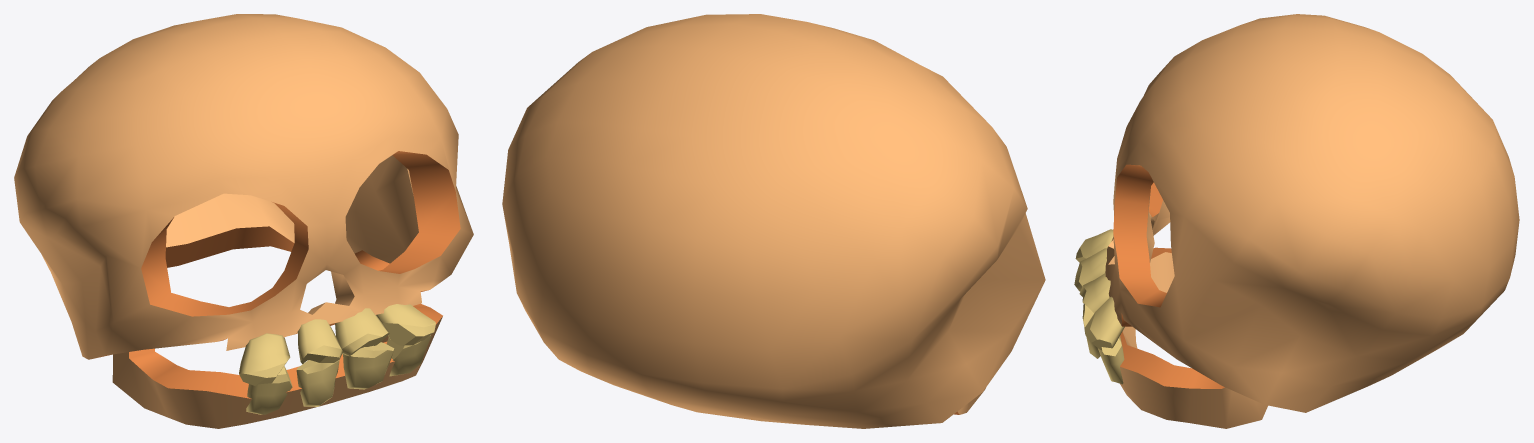
Rendered from Skull.fbx.
3 views of the same model, side by side, from view 1: azimuth 30°, elevation 25°; view 2: azimuth 150°, elevation 25°; view 3: azimuth 270°, elevation 25° (orthographic). The views are drawn at different scales.
Visible parts, largest first — view 1: Skull; view 2: Skull; view 3: Skull.
Part boxes in pixels (x1,y1,x2,y2): Skull: (14, 14, 473, 428); Skull: (502, 14, 1045, 428); Skull: (1074, 14, 1519, 428).
Size of the model in its own units: 0.5576 by 0.4232 by 0.5339.
